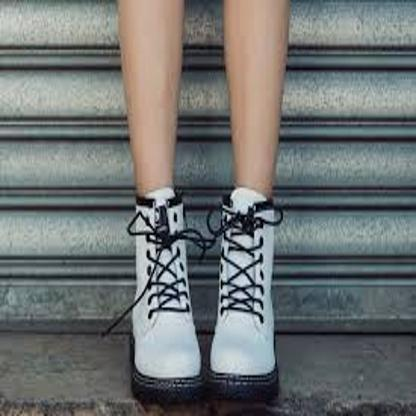not trash: (204, 187, 281, 403), (126, 191, 206, 398)
